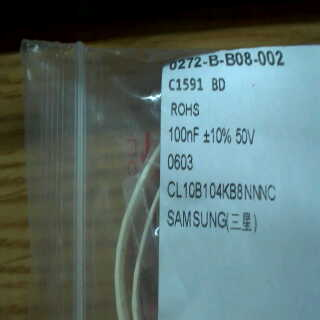100nF: (165, 122, 203, 148)
